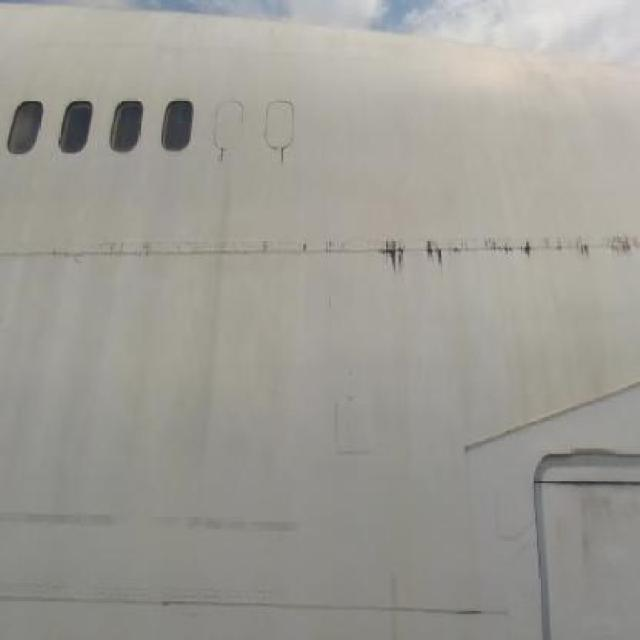Rust: (372, 210, 640, 299), (214, 142, 228, 178), (277, 146, 294, 172)
Scartch: (1, 488, 304, 552), (577, 481, 640, 557)
